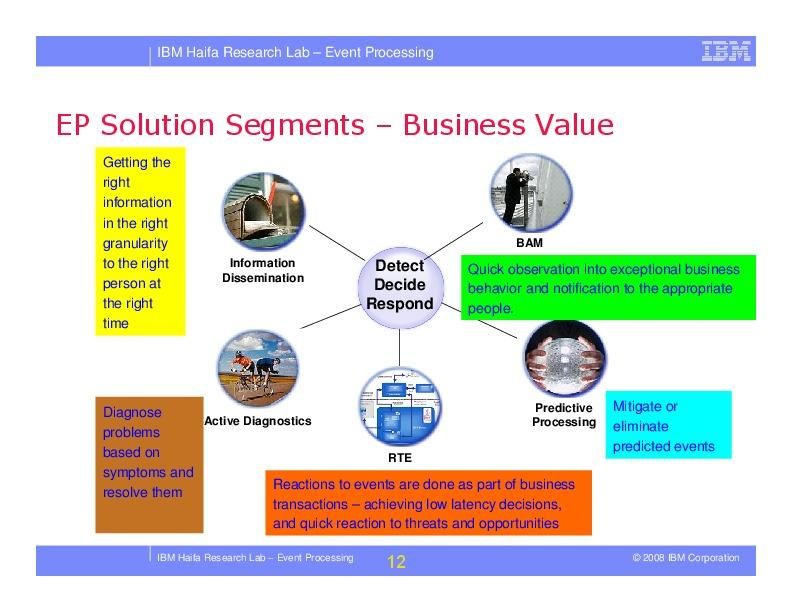title: (52, 102, 622, 148)
